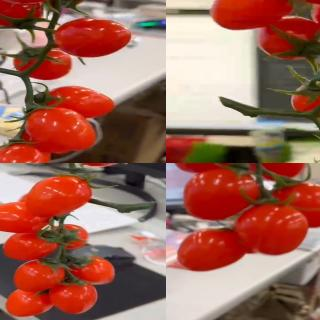tomato: (183, 163, 262, 220), (233, 202, 308, 256), (25, 106, 100, 154), (54, 17, 132, 60), (178, 228, 251, 273), (23, 175, 92, 219), (256, 17, 320, 59), (41, 86, 118, 120), (267, 181, 320, 229), (216, 0, 293, 30), (12, 47, 74, 81), (13, 258, 68, 292), (0, 200, 52, 233), (50, 282, 100, 315), (2, 232, 59, 260), (4, 288, 54, 318), (68, 255, 116, 285), (290, 79, 320, 124), (0, 1, 44, 30), (53, 224, 92, 252), (0, 143, 49, 163), (256, 163, 309, 180)
